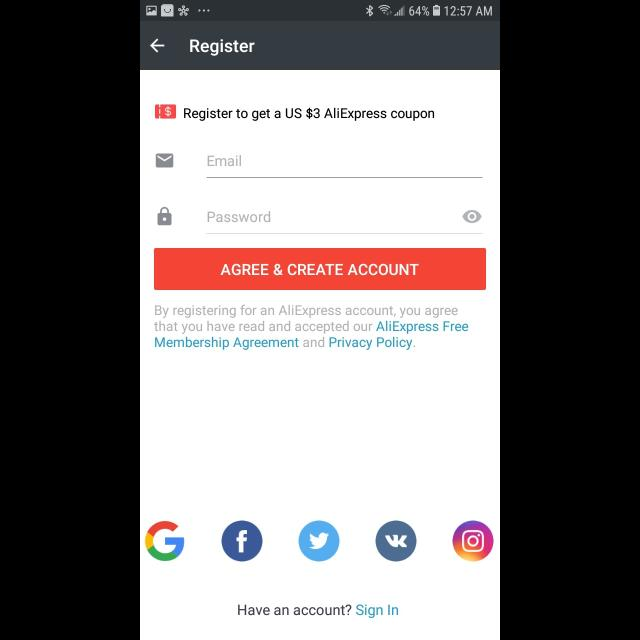icon: (298, 520, 339, 562), (145, 520, 185, 562), (222, 520, 262, 562), (155, 105, 177, 119), (158, 207, 172, 226), (462, 210, 482, 223), (150, 38, 166, 54), (156, 154, 174, 168)
image: (452, 520, 493, 562), (376, 520, 416, 562)
input: (206, 210, 482, 234), (208, 156, 482, 178)
text: (154, 305, 468, 351), (184, 107, 434, 121), (238, 605, 398, 619), (190, 40, 254, 56), (208, 211, 272, 223), (207, 155, 241, 167)
textbutton: (154, 248, 486, 290)
uppertaskbar: (140, 1, 500, 22)
